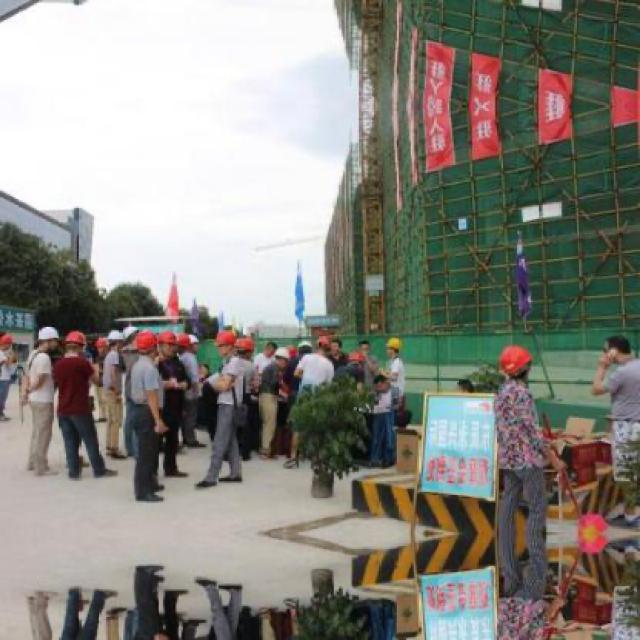con casco: (475, 332, 551, 386), (474, 338, 545, 394), (144, 321, 193, 351), (116, 332, 162, 357), (204, 330, 245, 352)
sin casco: (588, 334, 640, 372), (298, 330, 338, 364)
